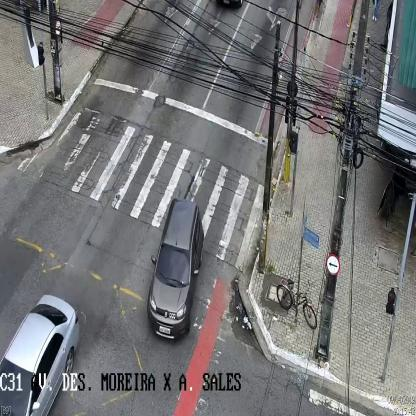bicycle: (276, 278, 316, 329)
car: (1, 293, 80, 415), (146, 198, 204, 340)
